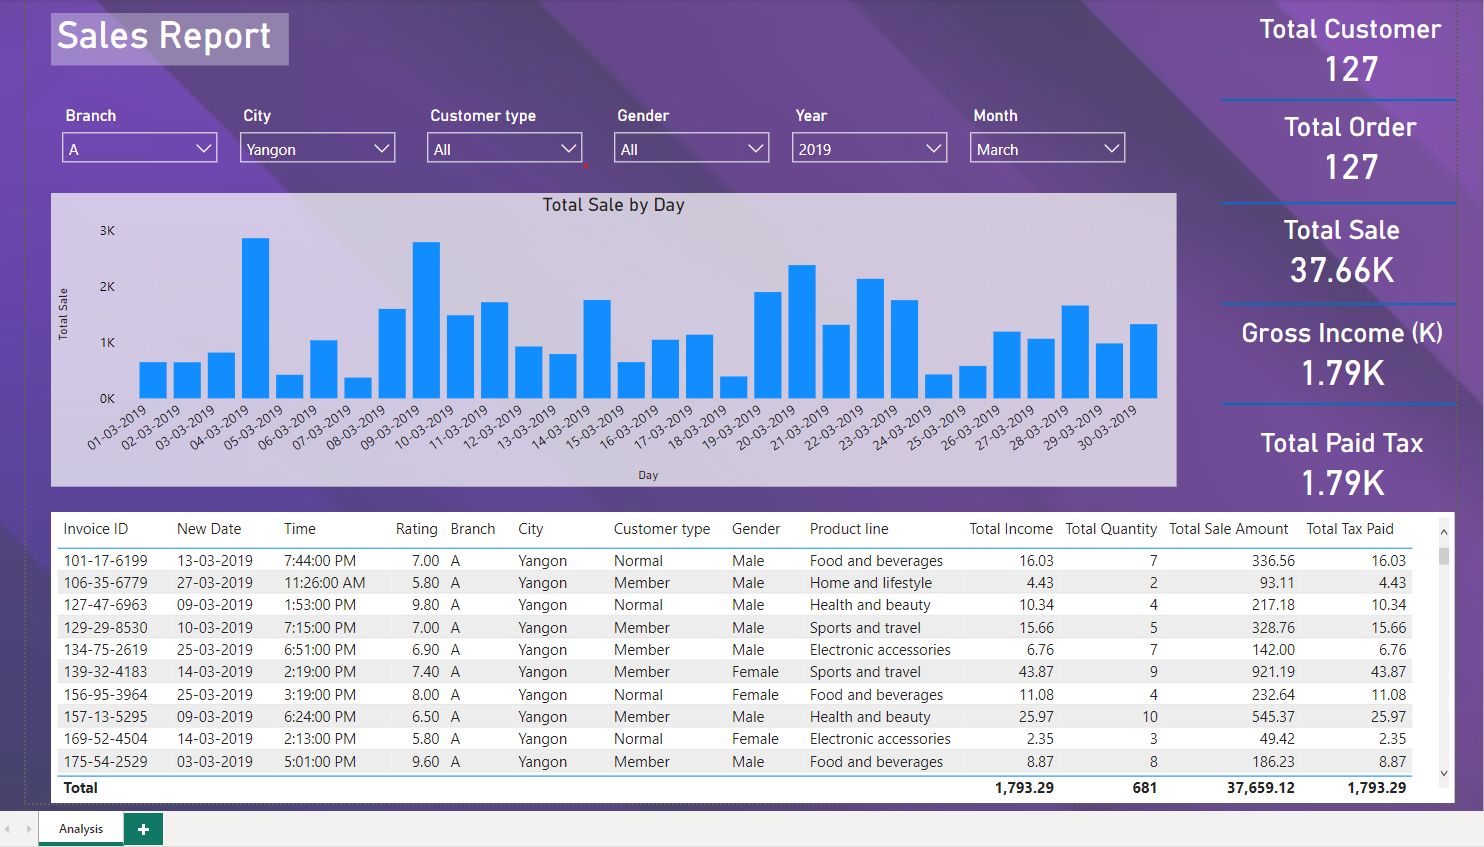

The dashboard page shown, as its layout file describes it:
{"tool":"powerbi","page":{"name":"Analysis","canvas":[1280,720],"ordinal":0},"visuals":[{"type":"card","title":"Total Customer","fields":{"Values":["CountNonNull(Data.Customer type)"]},"box":[1091.3,12.6,188.7,69.1],"z":0},{"type":"card","title":"Total Order","fields":{"Values":["CountNonNull(Data.Customer type)"]},"box":[1091.3,100.2,188.7,69.1],"z":1000},{"type":"shape","box":[1069.9,81.7,210.1,18.5],"z":2000},{"type":"card","title":"Gross Income (K)","fields":{"Values":["Sum(Data.gross income)"]},"box":[1077.7,285,202.3,69.1],"z":3000},{"type":"shape","box":[1069.9,174.1,210.1,18.5],"z":4000},{"type":"card","title":"Total Sale","fields":{"Values":["Sum(Data.Total)"]},"box":[1077.7,192.6,202.3,69.1],"z":5000},{"type":"shape","box":[1069.9,264.6,210.1,18.5],"z":6000},{"type":"card","title":"Total Paid Tax","fields":{"Values":["Sum(Data.Tax 5%)"]},"box":[1077.7,383.2,202.3,69.1],"z":7000},{"type":"shape","box":[1069.9,354,210.1,18.5],"z":8000},{"type":"tableEx","fields":{"Values":["Data.Invoice ID","Data.New Date","Data.Time","Data.Rating","Data.Branch","Data.City","Data.Customer type","Data.Gender","Data.Product line","Sum(Data.gross income)","Sum(Data.Quantity)","Sum(Data.Total)"]},"box":[22.4,459.4,1257.3,260.6],"z":9000},{"type":"slicer","fields":{"Values":["Data.Branch"]},"box":[22.4,91.3,159.4,69],"z":10000},{"type":"slicer","fields":{"Values":["Data.City"]},"box":[181.8,91.3,159.4,69],"z":11000},{"type":"slicer","fields":{"Values":["Data.Customer type"]},"box":[349.3,91.3,159.4,69],"z":12000},{"type":"slicer","fields":{"Values":["Data.Gender"]},"box":[516.7,91.3,159.4,69],"z":13000},{"type":"slicer","fields":{"Values":["Data.Date.Variation.Date Hierarchy.Year"]},"box":[676.1,91.3,159.4,69],"z":14000},{"type":"slicer","fields":{"Values":["Data.Date.Variation.Date Hierarchy.Month"]},"box":[835.5,91.3,159.4,69],"z":15000},{"type":"clusteredColumnChart","fields":{"Category":["Data.New Date"],"Y":["Sum(Data.Total)"]},"box":[22.4,174.1,1007.7,262.6],"z":16000},{"type":"textbox","title":"Sales Report","box":[22.4,12.5,213.1,47.5],"z":16001}]}

Visuals, with their boxes on the page's 1280x720 design canvas (x1, y1, x2, y2). These are canvas units, not pixel positions in the 1484x847 screenshot, which may show the page scaled, cropped or inside an application window:
"Total Customer" card: Rect(1091, 13, 1280, 82)
"Total Order" card: Rect(1091, 100, 1280, 169)
shape: Rect(1070, 82, 1280, 100)
"Gross Income (K)" card: Rect(1078, 285, 1280, 354)
shape: Rect(1070, 174, 1280, 193)
"Total Sale" card: Rect(1078, 193, 1280, 262)
shape: Rect(1070, 265, 1280, 283)
"Total Paid Tax" card: Rect(1078, 383, 1280, 452)
shape: Rect(1070, 354, 1280, 372)
tableEx - Data.Invoice ID x Data.New Date: Rect(22, 459, 1280, 720)
slicer - Data.Branch: Rect(22, 91, 182, 160)
slicer - Data.City: Rect(182, 91, 341, 160)
slicer - Data.Customer type: Rect(349, 91, 509, 160)
slicer - Data.Gender: Rect(517, 91, 676, 160)
slicer - Data.Date.Variation.Date Hierarchy.Year: Rect(676, 91, 836, 160)
slicer - Data.Date.Variation.Date Hierarchy.Month: Rect(836, 91, 995, 160)
clusteredColumnChart - Data.New Date x Sum(Data.Total): Rect(22, 174, 1030, 437)
"Sales Report" textbox: Rect(22, 12, 236, 60)
